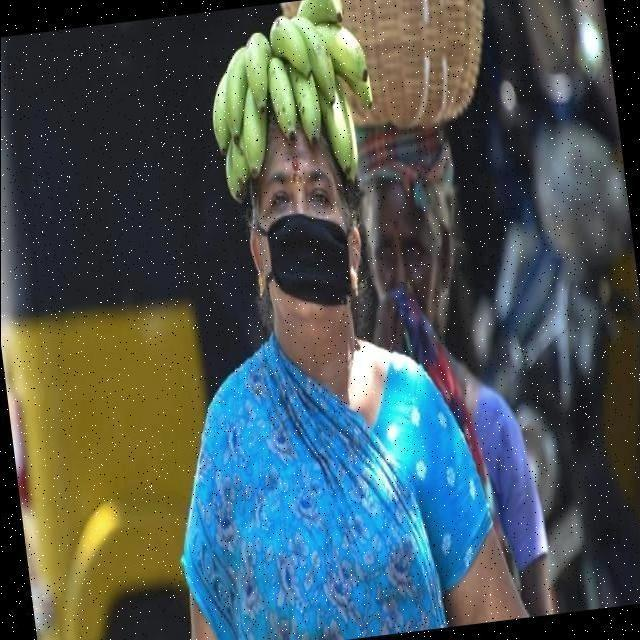mask: (265, 214, 355, 300)
no_gloves: (208, 0, 372, 196)
